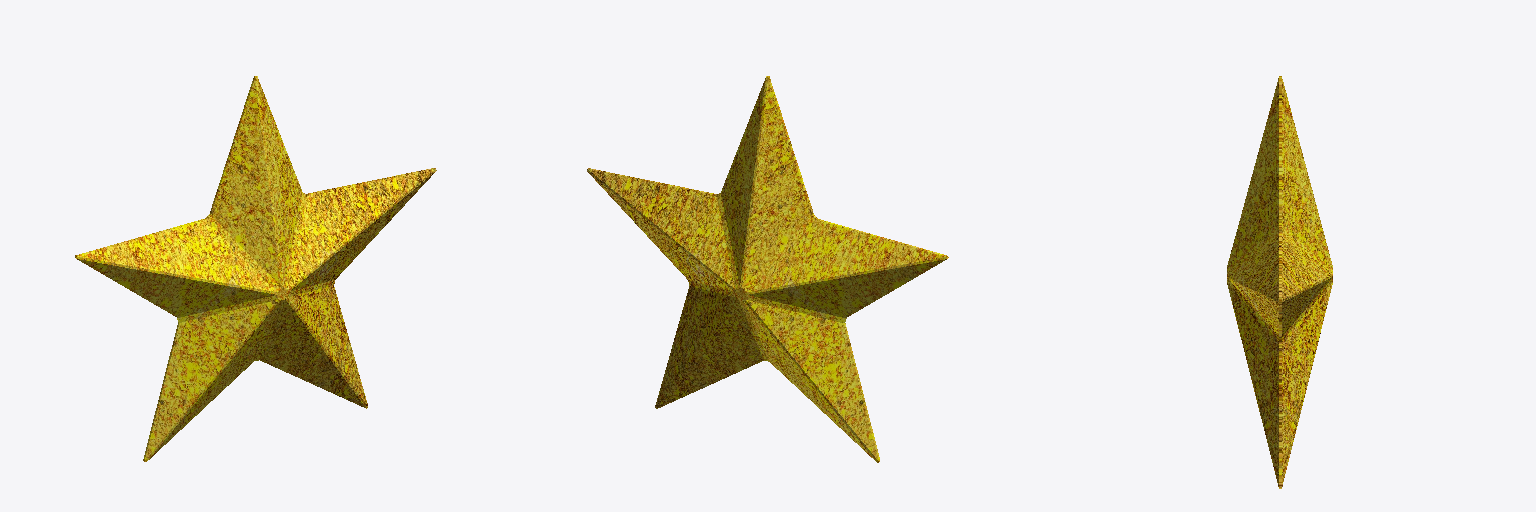
The picture shows the model from 3 angles: view 1: azimuth 30°, elevation 25°; view 2: azimuth 150°, elevation 25°; view 3: azimuth 270°, elevation 25°; orthographic projection.
Visible parts, largest first — view 1: Cylinder01; view 2: Cylinder01; view 3: Cylinder01.
Part boxes in pixels (bbox=[...]): Cylinder01: bbox=[75, 76, 436, 461]; Cylinder01: bbox=[587, 76, 948, 462]; Cylinder01: bbox=[1227, 76, 1332, 488].
Bounding box in the file's own units: 150 × 142 × 38.27.
Materials: 1 (1 with a texture image).